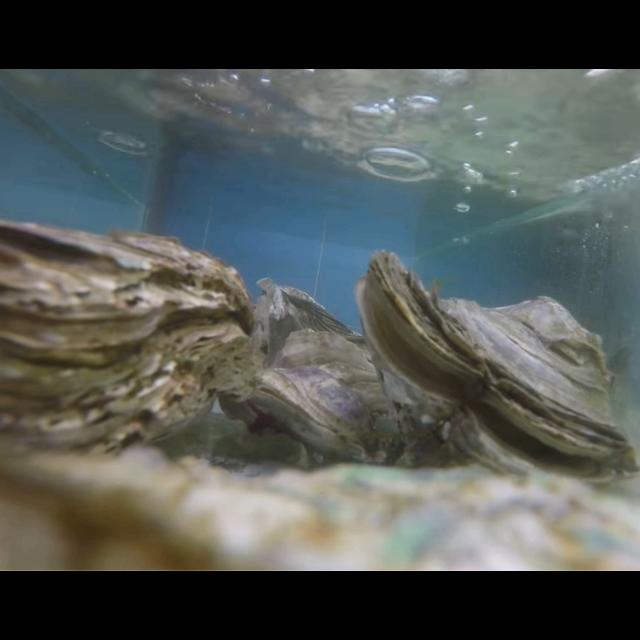Oyster-Closed: (0, 445, 640, 571), (0, 221, 256, 475), (254, 278, 370, 369)
Oyster-Open: (354, 250, 640, 492), (248, 331, 412, 465)
